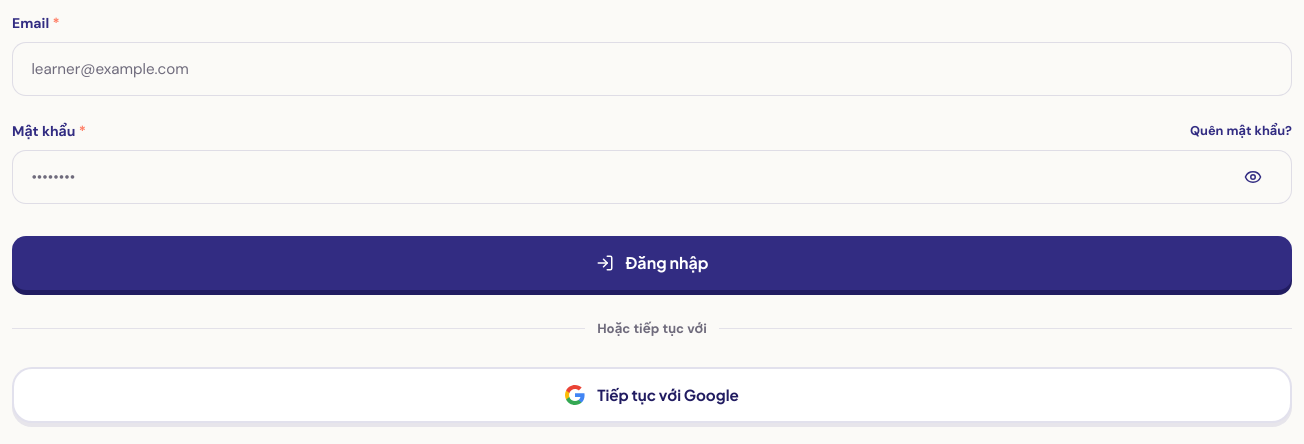
Test: enters Admin only after successful sync returns an active profile
This screenshot has width=1304, height=444.
In the field labelled "Email *": (652, 69) [12, 42, 1292, 96], type "admin@example.test"
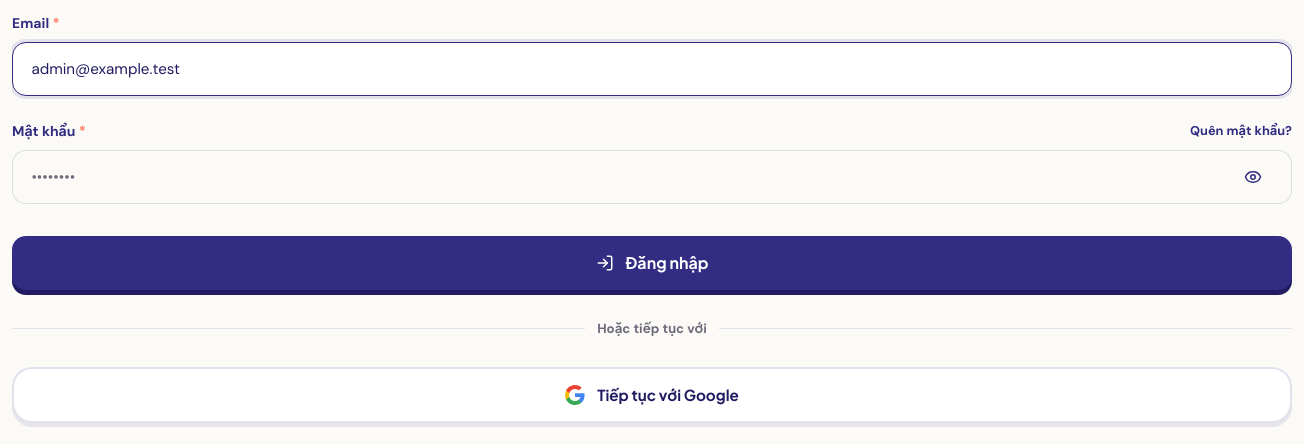
In the password field labelled "Mật khẩu *": (652, 177) [12, 150, 1292, 204], type "StrongPassword1!"
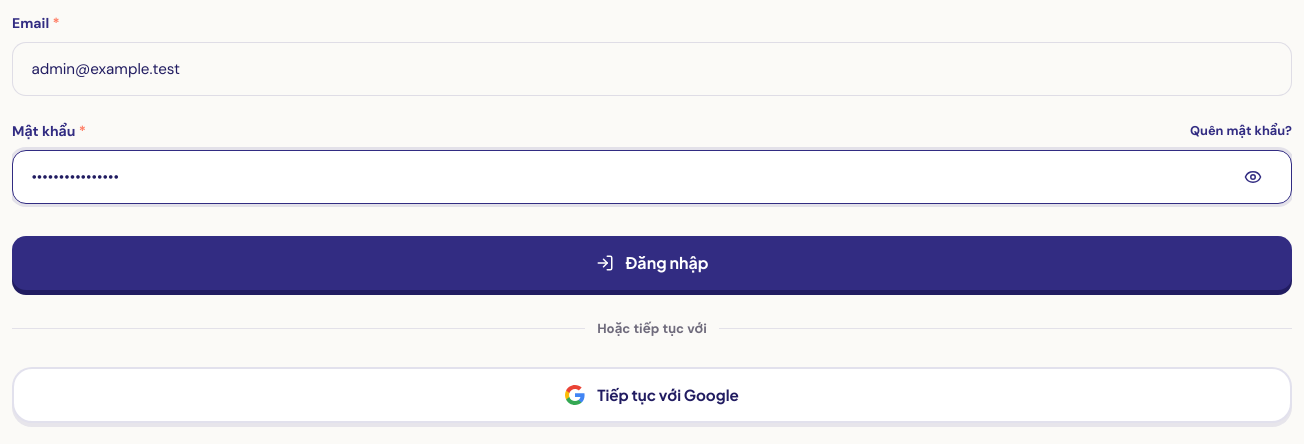
Click the button "Đăng nhập": (652, 263) [12, 236, 1292, 290]
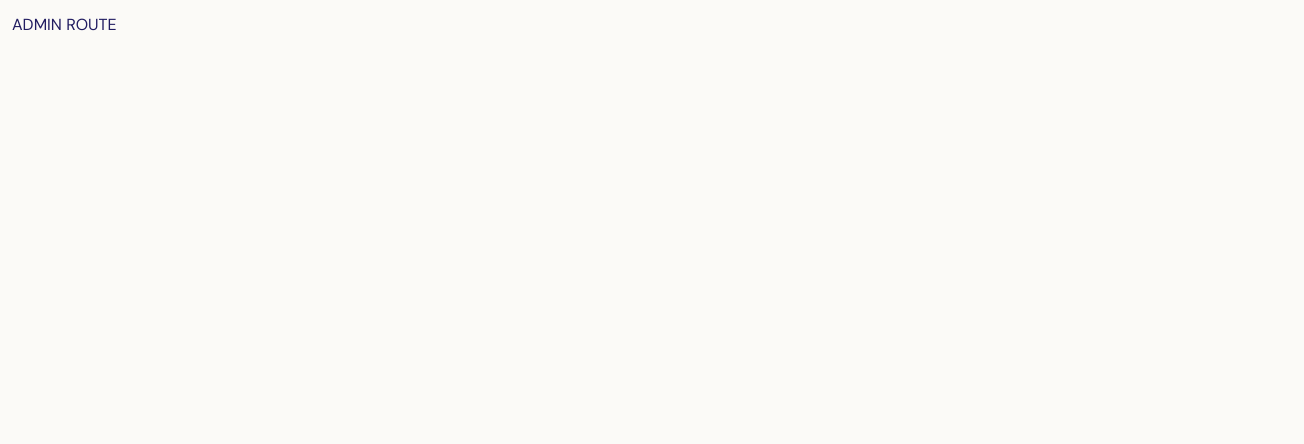
Now the text "ADMIN ROUTE" is shown, box [12, 14, 116, 35]
